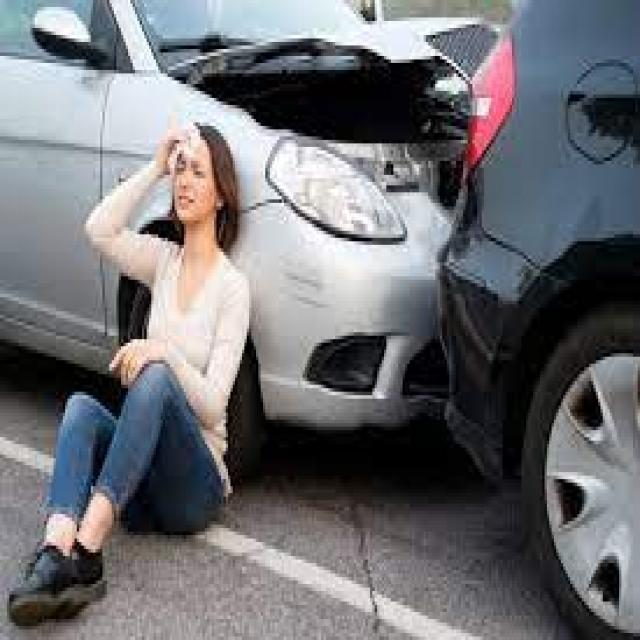accident: (284, 20, 635, 568)
